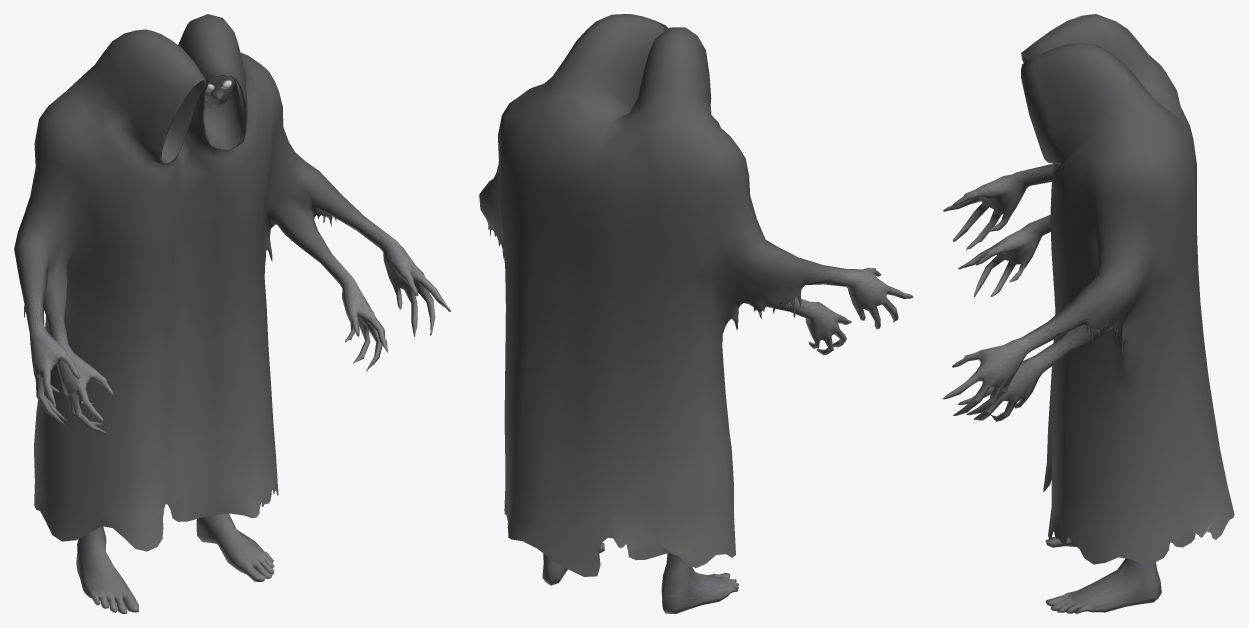
Rendered from 019f4179-6ef8-799e-bef8-1e7a7539774f.glb.
3 views of the same model, side by side, from view 1: azimuth 30°, elevation 25°; view 2: azimuth 150°, elevation 25°; view 3: azimuth 270°, elevation 25° (orthographic). The views are drawn at different scales.
Parts seen in each view (by area): view 1: tripo_node_c1742f88-7360-42b3-a29e-0dfe813b60dd; view 2: tripo_node_c1742f88-7360-42b3-a29e-0dfe813b60dd; view 3: tripo_node_c1742f88-7360-42b3-a29e-0dfe813b60dd.
Boxes of the visible parts, bbox=[...] form: tripo_node_c1742f88-7360-42b3-a29e-0dfe813b60dd: bbox=[14, 14, 450, 613]; tripo_node_c1742f88-7360-42b3-a29e-0dfe813b60dd: bbox=[479, 14, 913, 613]; tripo_node_c1742f88-7360-42b3-a29e-0dfe813b60dd: bbox=[942, 14, 1234, 613].
Bounding box in the file's own units: 0.7441 × 0.998 × 0.4863.
Materials: 1 (1 with a texture image).
